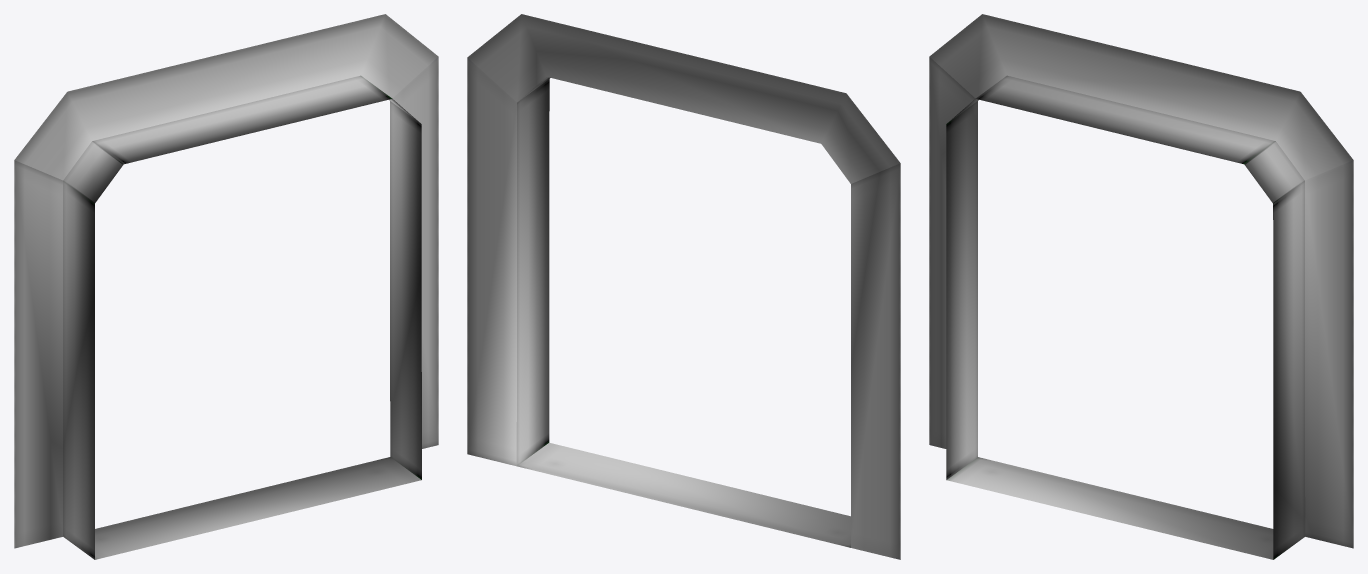
Rendered from CC_door.fbx.
3 renders of one model, left to right at view 1: azimuth 30°, elevation 25°; view 2: azimuth 150°, elevation 25°; view 3: azimuth 330°, elevation 25°, orthographic. The views are drawn at different scales.
Parts seen in each view (by area): view 1: Cube_127; view 2: Cube_127; view 3: Cube_127.
Boxes of the visible parts, box(x1,y1,x2,y2) form: Cube_127: box(14, 14, 438, 559); Cube_127: box(467, 14, 900, 559); Cube_127: box(929, 14, 1353, 559).
Bounding box in the file's own units: 8 × 8 × 1.04.
